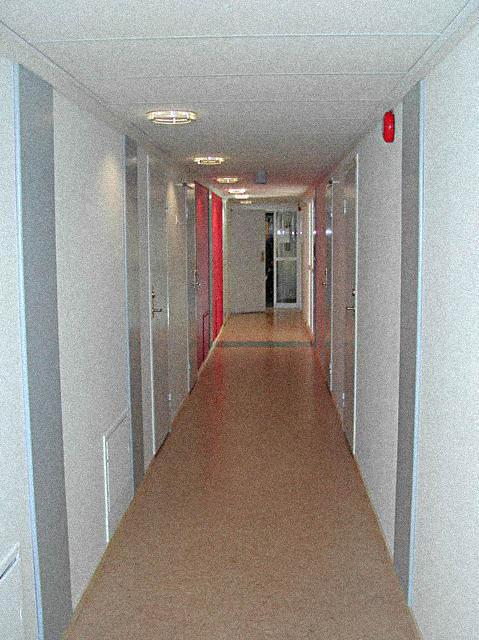Puerta: (150, 160, 171, 457), (341, 159, 358, 452), (185, 186, 197, 391), (323, 181, 331, 387)
